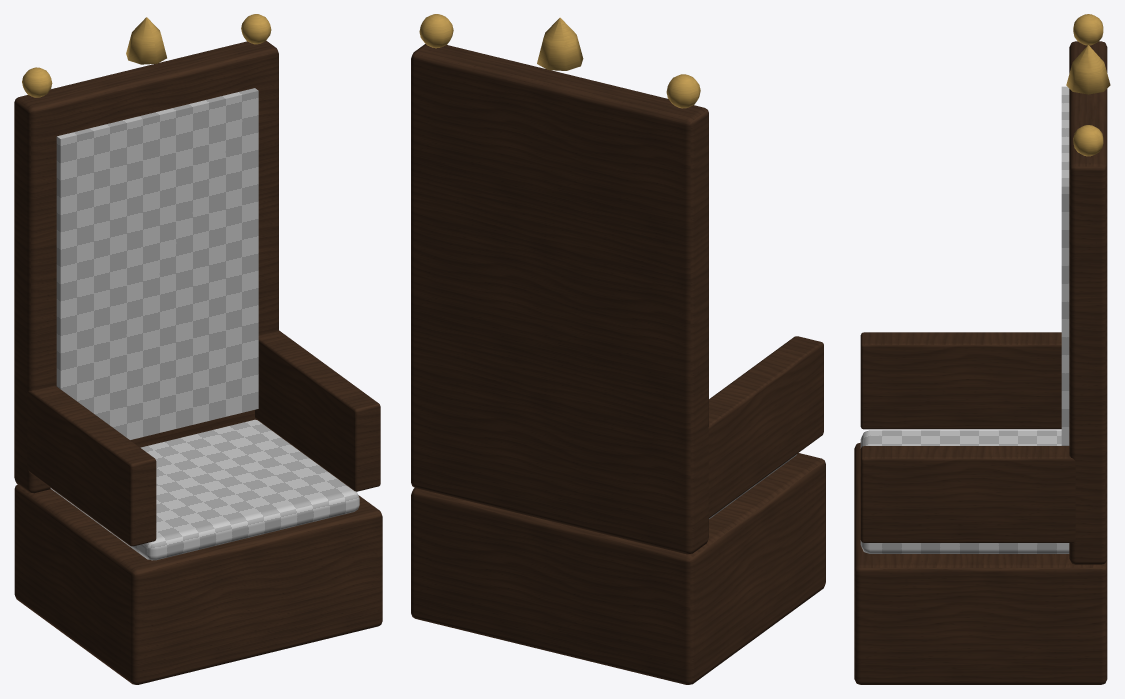
Rendered from throne.glb.
The picture shows the model from 3 angles, left to right: view 1: azimuth 30°, elevation 25°; view 2: azimuth 150°, elevation 25°; view 3: azimuth 270°, elevation 25°; orthographic projection. The views are drawn at different scales.
Parts seen in each view (by area): view 1: throne, dyn_velvet_variant; view 2: throne; view 3: throne, dyn_velvet_variant.
Boxes of the visible parts, x1=… form: throne: x1=14, y1=14, x2=382, y2=684; dyn_velvet_variant: x1=50, y1=88, x2=359, y2=560; throne: x1=411, y1=14, x2=825, y2=684; throne: x1=854, y1=14, x2=1110, y2=684; dyn_velvet_variant: x1=860, y1=86, x2=1069, y2=553.
Size of the model in its own units: 0.9507 by 2.02 by 0.8102.
3 materials, 3 textured.
